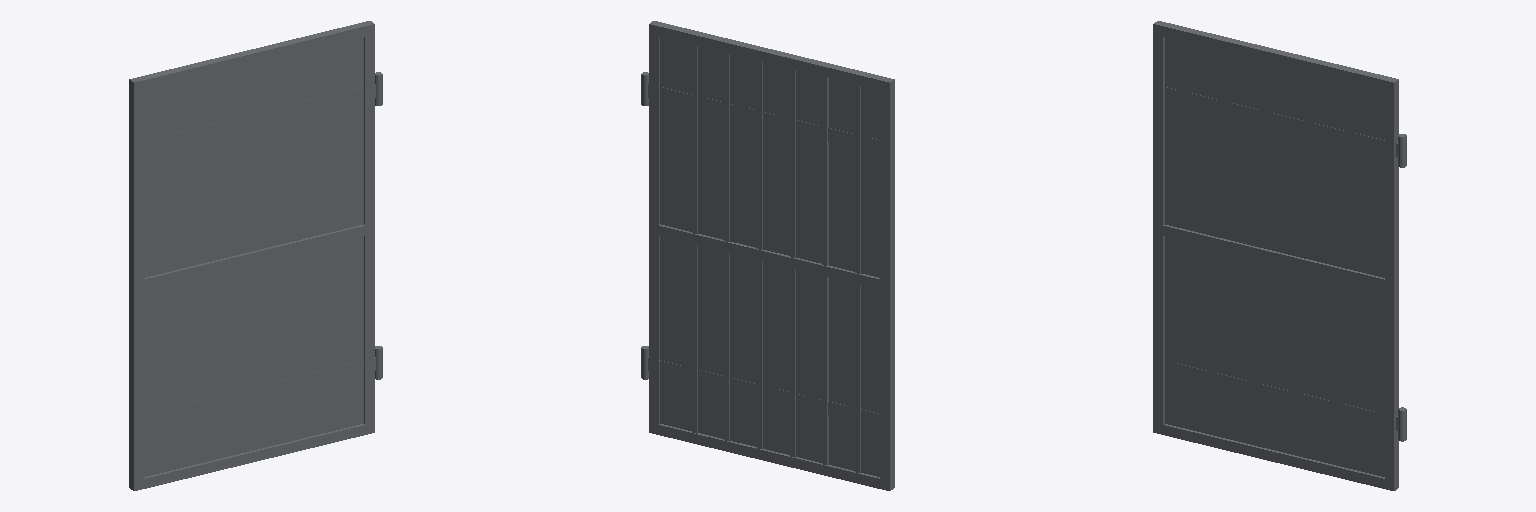
The robot description file, URDF, robot "nova_environment_object_0119":
<?xml version="1.0" encoding="utf-8"?>
<!-- Nova movable environment body for the bundled PyBullet launcher. SI metres/kg/radians. Loaded at its body origin; hinge/slider bodies use a fixed world_anchor base with one passive joint. Inertia is about COM. -->
<robot name="nova_environment_object_0119">
  <link name="world_anchor">
    <inertial>
      <mass value="0" />
      <inertia ixx="0" iyy="0" izz="0" ixy="0" ixz="0" iyz="0" />
    </inertial>
  </link>
  <joint name="joint" type="revolute">
    <parent link="world_anchor" />
    <child link="body" />
    <origin xyz="0 0 0" rpy="0 0 0" />
    <axis xyz="0 0 -1" />
    <limit lower="0" upper="1.4" effort="1000" velocity="10" />
    <dynamics damping="4" friction="2" />
  </joint>
  <link name="body">
    <inertial>
      <origin xyz="-0.772 0 0" rpy="0 0 0" />
      <mass value="95" />
      <inertia ixx="45.2405833" iyy="62.4211433" izz="17.2201433" ixy="0" ixz="0" iyz="0" />
    </inertial>
    <visual>
      <origin xyz="0 0 0" rpy="0 0 0" />
      <geometry>
        <mesh filename="object_0119.obj" />
      </geometry>
      <material name="surface">
        <color rgba="0.47 0.49 0.5 1" />
      </material>
    </visual>
    <collision>
      <origin xyz="0 0 0" rpy="0 0 0" />
      <geometry>
        <mesh filename="object_0119_auto_00.obj" />
      </geometry>
    </collision>
    <collision>
      <origin xyz="0 0 0" rpy="0 0 0" />
      <geometry>
        <mesh filename="object_0119_auto_01.obj" />
      </geometry>
    </collision>
    <collision>
      <origin xyz="0 0 0" rpy="0 0 0" />
      <geometry>
        <mesh filename="object_0119_auto_02.obj" />
      </geometry>
    </collision>
    <collision>
      <origin xyz="0 0 0" rpy="0 0 0" />
      <geometry>
        <mesh filename="object_0119_auto_03.obj" />
      </geometry>
    </collision>
    <collision>
      <origin xyz="0 0 0" rpy="0 0 0" />
      <geometry>
        <mesh filename="object_0119_auto_04.obj" />
      </geometry>
    </collision>
    <collision>
      <origin xyz="0 0 0" rpy="0 0 0" />
      <geometry>
        <mesh filename="object_0119_auto_05.obj" />
      </geometry>
    </collision>
    <collision>
      <origin xyz="0 0 0" rpy="0 0 0" />
      <geometry>
        <mesh filename="object_0119_auto_06.obj" />
      </geometry>
    </collision>
    <collision>
      <origin xyz="0 0 0" rpy="0 0 0" />
      <geometry>
        <mesh filename="object_0119_auto_07.obj" />
      </geometry>
    </collision>
    <collision>
      <origin xyz="0 0 0" rpy="0 0 0" />
      <geometry>
        <mesh filename="object_0119_auto_08.obj" />
      </geometry>
    </collision>
    <collision>
      <origin xyz="0 0 0" rpy="0 0 0" />
      <geometry>
        <mesh filename="object_0119_auto_09.obj" />
      </geometry>
    </collision>
    <collision>
      <origin xyz="0 0 0" rpy="0 0 0" />
      <geometry>
        <mesh filename="object_0119_auto_10.obj" />
      </geometry>
    </collision>
    <collision>
      <origin xyz="0 0 0" rpy="0 0 0" />
      <geometry>
        <mesh filename="object_0119_auto_11.obj" />
      </geometry>
    </collision>
    <collision>
      <origin xyz="0 0 0" rpy="0 0 0" />
      <geometry>
        <mesh filename="object_0119_auto_12.obj" />
      </geometry>
    </collision>
    <collision>
      <origin xyz="0 0 0" rpy="0 0 0" />
      <geometry>
        <mesh filename="object_0119_auto_13.obj" />
      </geometry>
    </collision>
    <collision>
      <origin xyz="0 0 0" rpy="0 0 0" />
      <geometry>
        <mesh filename="object_0119_auto_14.obj" />
      </geometry>
    </collision>
    <collision>
      <origin xyz="0 0 0" rpy="0 0 0" />
      <geometry>
        <mesh filename="object_0119_auto_15.obj" />
      </geometry>
    </collision>
  </link>
</robot>

--- What the picture shows (computed from the rendered views, not written in the file) ---
The picture shows the robot from 3 angles, left to right: view 1: azimuth 30°, elevation 25°; view 2: azimuth 150°, elevation 25°; view 3: azimuth 330°, elevation 25°; orthographic projection.
Model nova_environment_object_0119 with 2 links and 1 joints (1 revolute), rooted at world_anchor, posed every joint at zero.
Links seen in each view (by area): view 1: body; view 2: body; view 3: body.
Link boxes in pixels (x1=…): body: x1=129, y1=21, x2=382, y2=490; body: x1=641, y1=21, x2=894, y2=490; body: x1=1153, y1=21, x2=1406, y2=490.
Size in the robot's own frame: 1.53 by 0.05 by 2.39 metres.
Meshes: 1 distinct files referenced, 1 mesh visuals loaded (1 OBJ).
